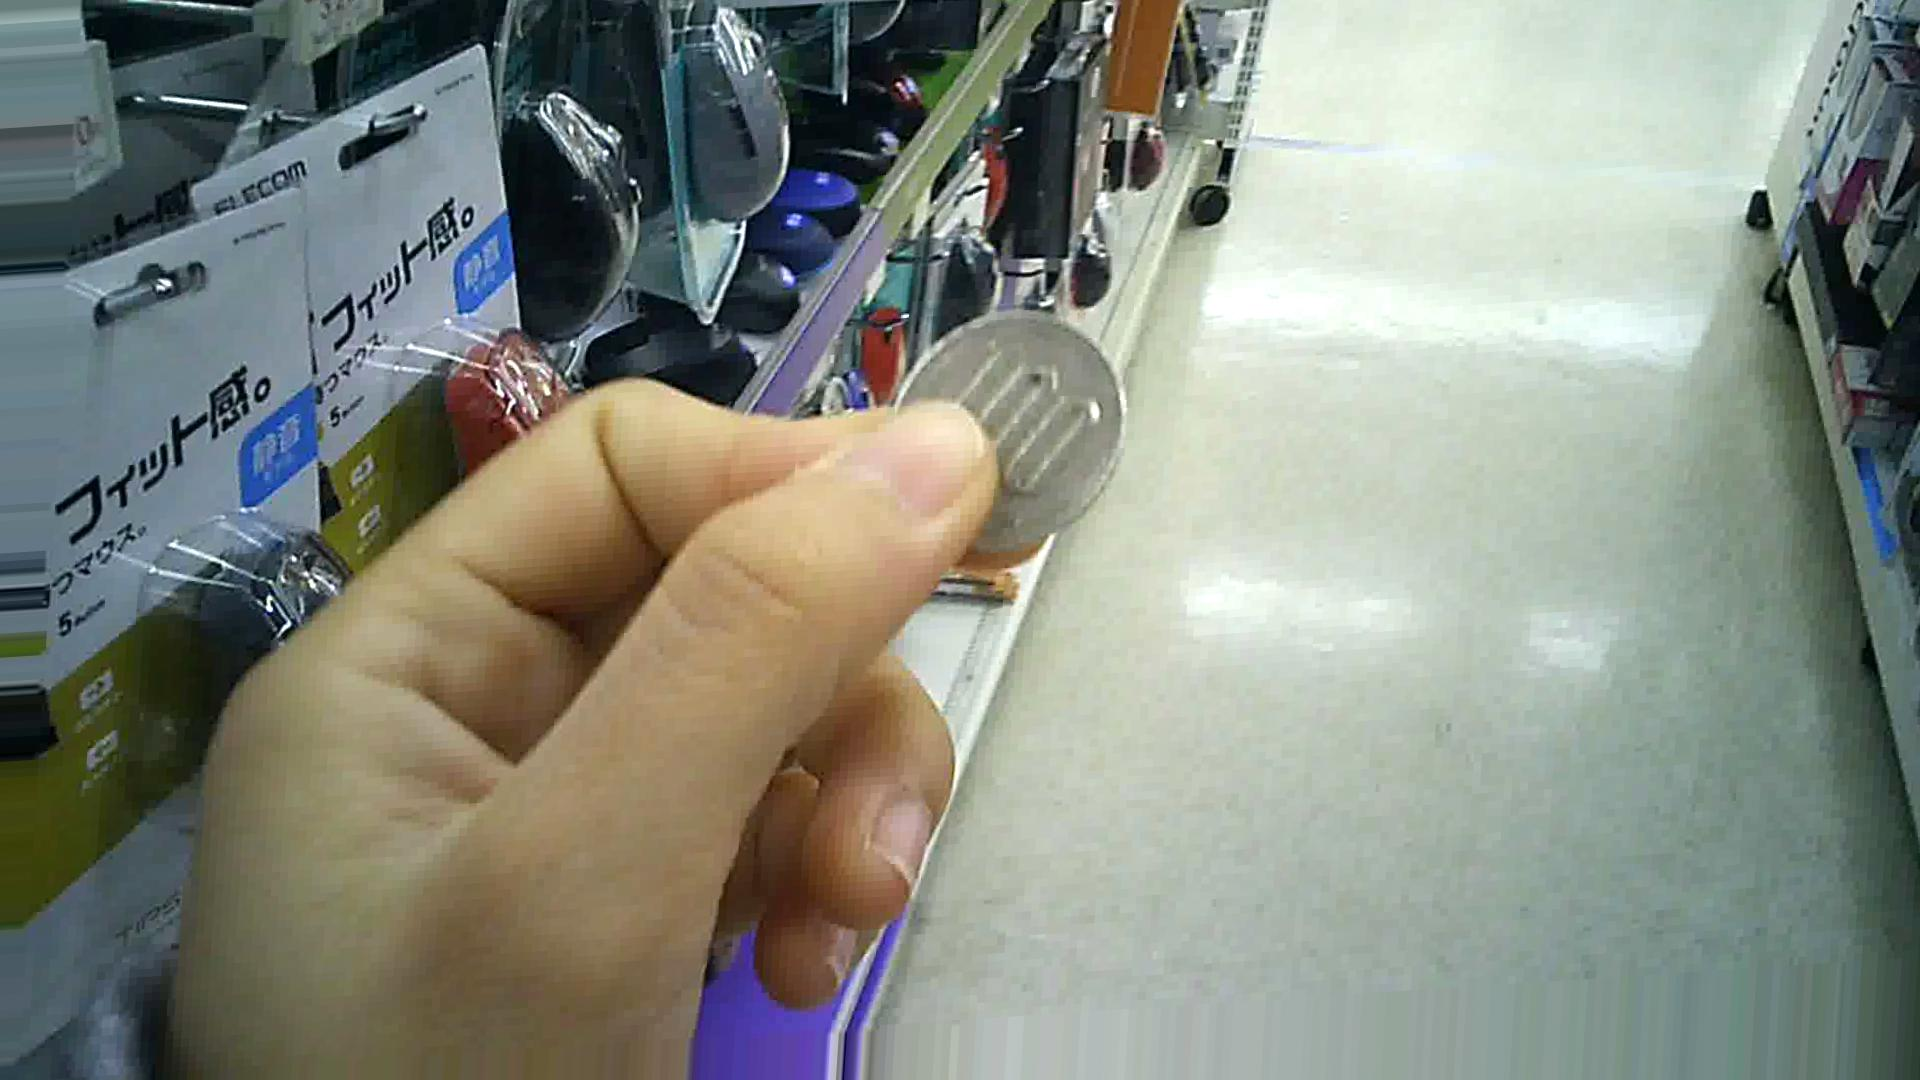100 Yen: (891, 305, 1120, 554)
